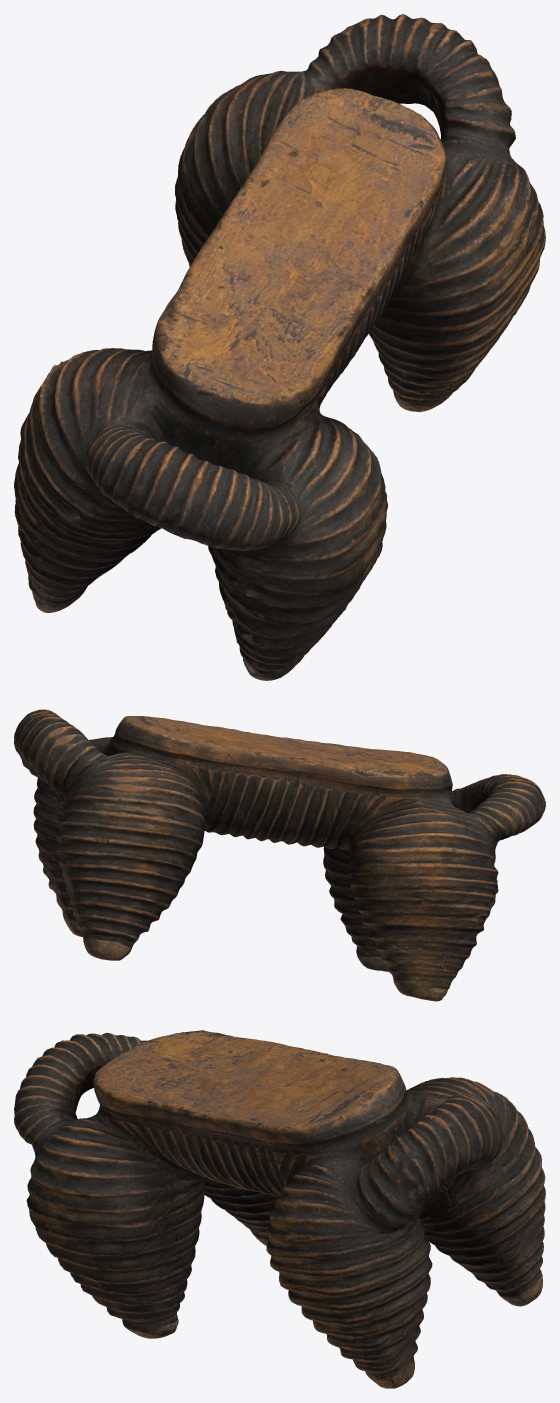
The model's file is zoomorphic_headrest.glb.
The picture shows the model from 3 angles, top to bottom: view 1: azimuth 30°, elevation 25°; view 2: azimuth 150°, elevation 25°; view 3: azimuth 270°, elevation 25°; orthographic projection. The views are drawn at different scales.
Parts seen in each view (by area): view 1: PG_218_356_Headrest_SouthAfrica_n3d; view 2: PG_218_356_Headrest_SouthAfrica_n3d; view 3: PG_218_356_Headrest_SouthAfrica_n3d.
Part boxes in pixels (<box>): PG_218_356_Headrest_SouthAfrica_n3d: <box>14,14,545,680</box>; PG_218_356_Headrest_SouthAfrica_n3d: <box>14,709,545,1001</box>; PG_218_356_Headrest_SouthAfrica_n3d: <box>14,1030,545,1388</box>.
Bounding box in the file's own units: 2.35 × 1.67 × 2.26.
Materials: 1 (1 with a texture image).
